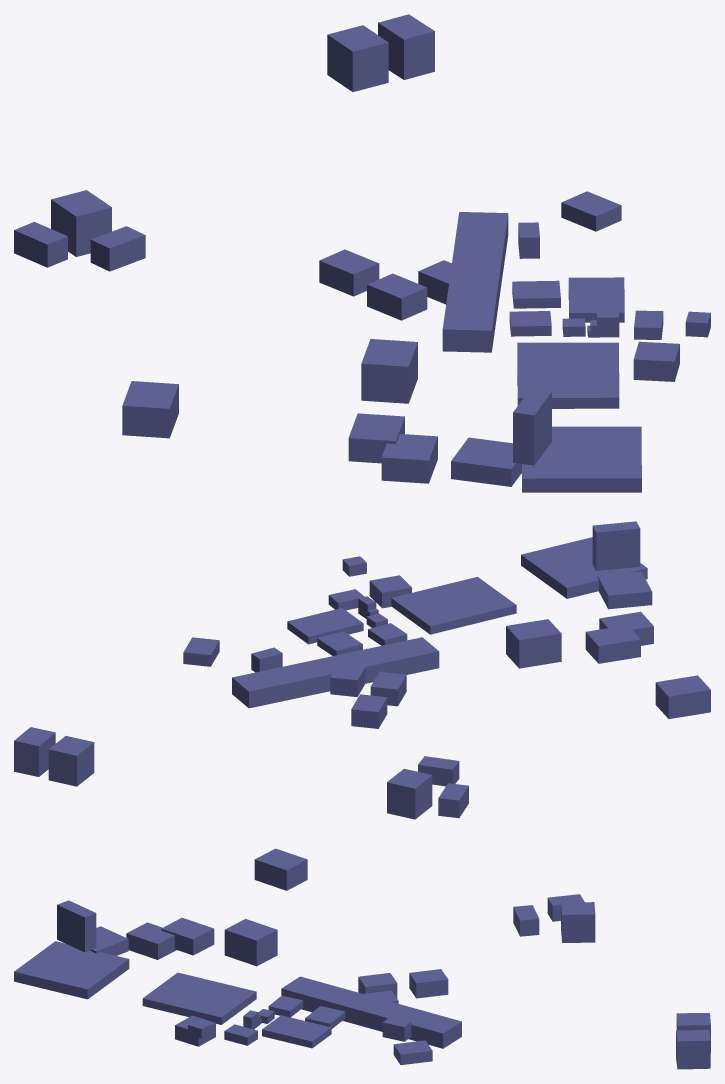
The model's file is Leparc29_Dummy_Loc.fbx.
3 views of the same model, one above another, from view 1: azimuth 30°, elevation 25°; view 2: azimuth 150°, elevation 25°; view 3: azimuth 270°, elevation 25° (orthographic). The views are drawn at different scales.
Visible parts, largest first — view 1: Cube__8_, Cube__28_, Cube__7_, Cube__29_, Cube__21_, Cube__24_, Cube__31_, Cube__30_, Cube__34_, Cube__35_, Cube__23_, Cube__9_ (+12 smaller); view 2: Cube__28_, Cube__7_, Cube__8_, Cube__21_, Cube__35_, Cube__24_, Cube__29_, Cube__31_, Cube__22_, Cube__34_, Cube__9_, Cube__30_ (+12 smaller); view 3: Cube__28_, Cube__8_, Cube__7_, Cube__21_, Cube__24_, Cube__35_, Cube__9_, Cube__31_, Cube__30_, Cube__23_, Cube__22_, Cube__15_ (+12 smaller).
Boxes of the visible parts, x1=… form: Cube__8_: x1=521, y1=426, x2=641, y2=492; Cube__28_: x1=442, y1=212, x2=508, y2=352; Cube__7_: x1=517, y1=342, x2=619, y2=408; Cube__29_: x1=327, y1=25, x2=388, y2=91; Cube__21_: x1=361, y1=339, x2=417, y2=403; Cube__24_: x1=122, y1=381, x2=178, y2=438; Cube__31_: x1=51, y1=190, x2=111, y2=256; Cube__30_: x1=378, y1=14, x2=434, y2=79; Cube__34_: x1=451, y1=437, x2=521, y2=486; Cube__35_: x1=513, y1=388, x2=551, y2=465; Cube__23_: x1=381, y1=434, x2=437, y2=483; Cube__9_: x1=568, y1=277, x2=624, y2=322; Cube__28_: x1=232, y1=637, x2=439, y2=708; Cube__7_: x1=391, y1=577, x2=516, y2=634; Cube__8_: x1=521, y1=537, x2=647, y2=598; Cube__21_: x1=506, y1=619, x2=561, y2=668; Cube__35_: x1=592, y1=521, x2=640, y2=570; Cube__24_: x1=655, y1=675, x2=710, y2=718; Cube__29_: x1=48, y1=736, x2=94, y2=786; Cube__31_: x1=387, y1=768, x2=432, y2=819; Cube__22_: x1=585, y1=625, x2=640, y2=663; Cube__34_: x1=597, y1=571, x2=652, y2=609; Cube__9_: x1=287, y1=608, x2=363, y2=644; Cube__30_: x1=14, y1=727, x2=55, y2=776; Cube__28_: x1=281, y1=976, x2=461, y2=1048; Cube__8_: x1=14, y1=941, x2=129, y2=999; Cube__7_: x1=142, y1=972, x2=256, y2=1024; Cube__21_: x1=224, y1=919, x2=277, y2=966; Cube__24_: x1=254, y1=848, x2=307, y2=890; Cube__35_: x1=57, y1=900, x2=96, y2=952; Cube__9_: x1=262, y1=1015, x2=331, y2=1048; Cube__31_: x1=561, y1=902, x2=595, y2=942; Cube__30_: x1=676, y1=1030, x2=710, y2=1069; Cube__23_: x1=126, y1=922, x2=176, y2=959; Cube__22_: x1=161, y1=917, x2=214, y2=955; Cube__15_: x1=409, y1=969, x2=448, y2=998.
Size of the model in its own units: 93092 by 13507 by 134375.
